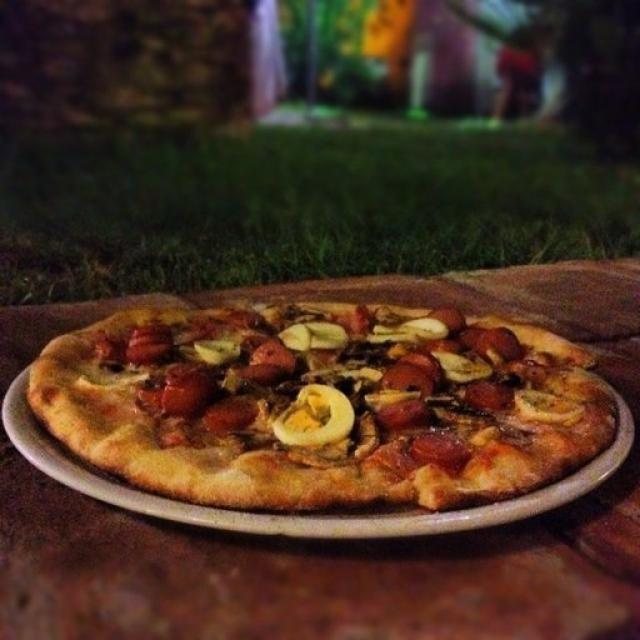Pizza: (29, 301, 620, 512)
Tomato: (210, 398, 256, 435), (156, 381, 210, 410), (385, 364, 432, 394), (475, 331, 526, 358), (417, 432, 457, 466), (380, 401, 435, 424), (131, 326, 169, 358), (437, 305, 461, 325), (354, 305, 369, 331)
